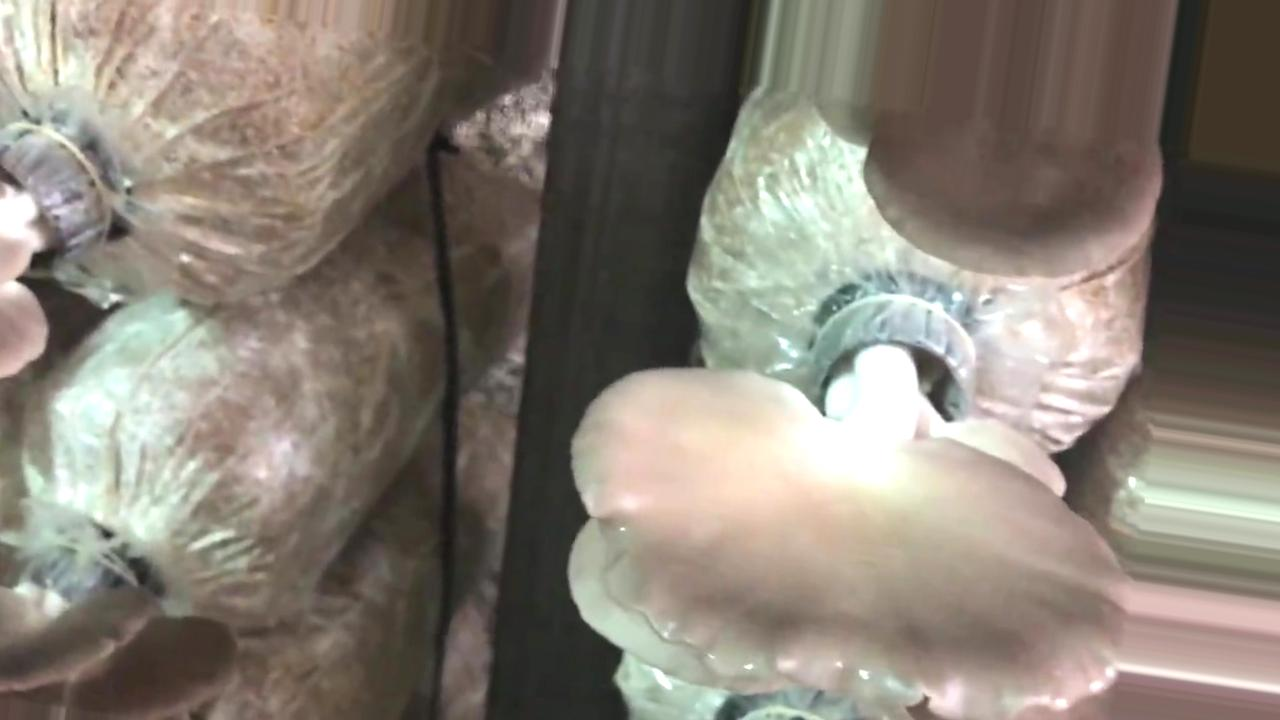nam: (561, 264, 1131, 720), (812, 1, 1171, 280), (6, 523, 250, 720), (1, 107, 107, 368)
